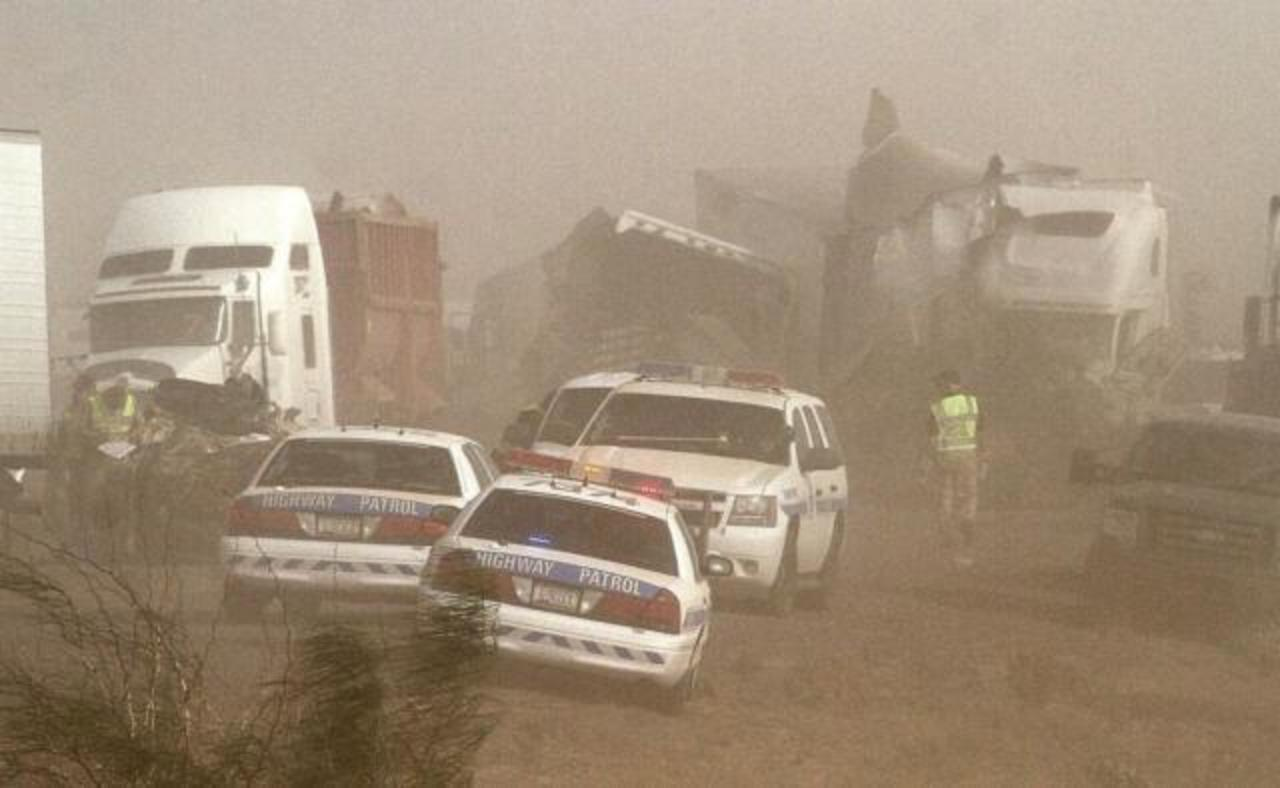car: (503, 359, 846, 611), (415, 466, 725, 700), (1064, 405, 1278, 667), (218, 421, 492, 620)
person: (921, 368, 987, 571), (77, 383, 137, 568)
truck: (80, 168, 438, 543)
